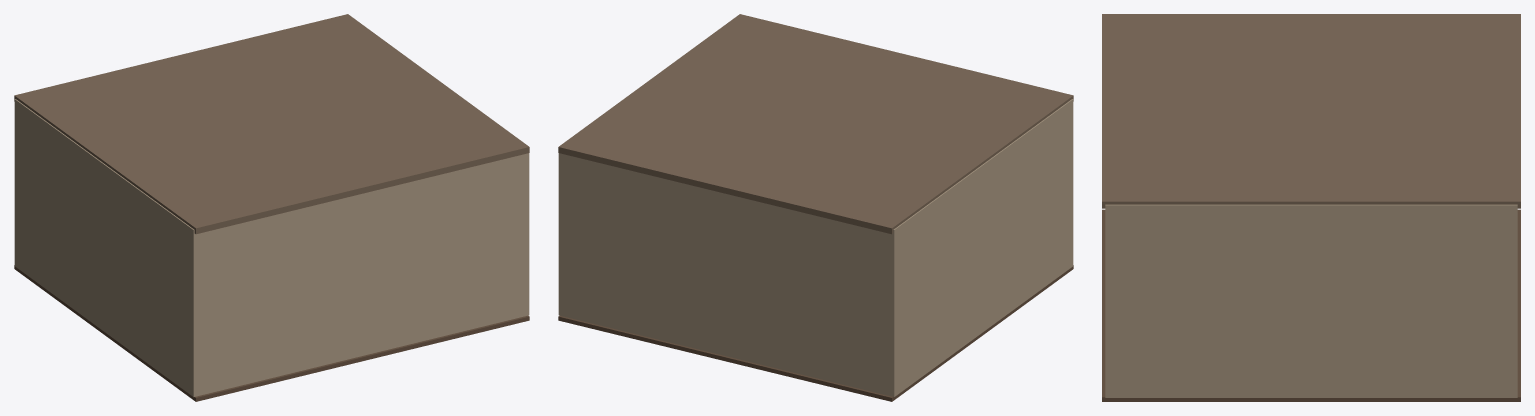
File: muhabbet_surfacepass.glb
3 renders of one model, left to right at view 1: azimuth 30°, elevation 25°; view 2: azimuth 150°, elevation 25°; view 3: azimuth 270°, elevation 25°, orthographic. The views are drawn at different scales.
Visible parts, largest first — view 1: Interior_plaster, Interior_ceiling, Interior_floor_wood; view 2: Interior_plaster, Interior_ceiling, Interior_floor_wood; view 3: Interior_plaster, Interior_ceiling, Interior_floor_wood.
Part boxes in pixels (box(x1,y1,x2,y2)): Interior_plaster: box(14, 99, 529, 396); Interior_ceiling: box(14, 14, 529, 234); Interior_floor_wood: box(14, 265, 529, 401); Interior_plaster: box(558, 99, 1073, 396); Interior_ceiling: box(558, 14, 1073, 234); Interior_floor_wood: box(558, 265, 1073, 401); Interior_plaster: box(1105, 204, 1517, 397); Interior_ceiling: box(1102, 14, 1520, 208); Interior_floor_wood: box(1102, 209, 1520, 401).
Size of the model in its own units: 7.04 by 3.48 by 6.6.
